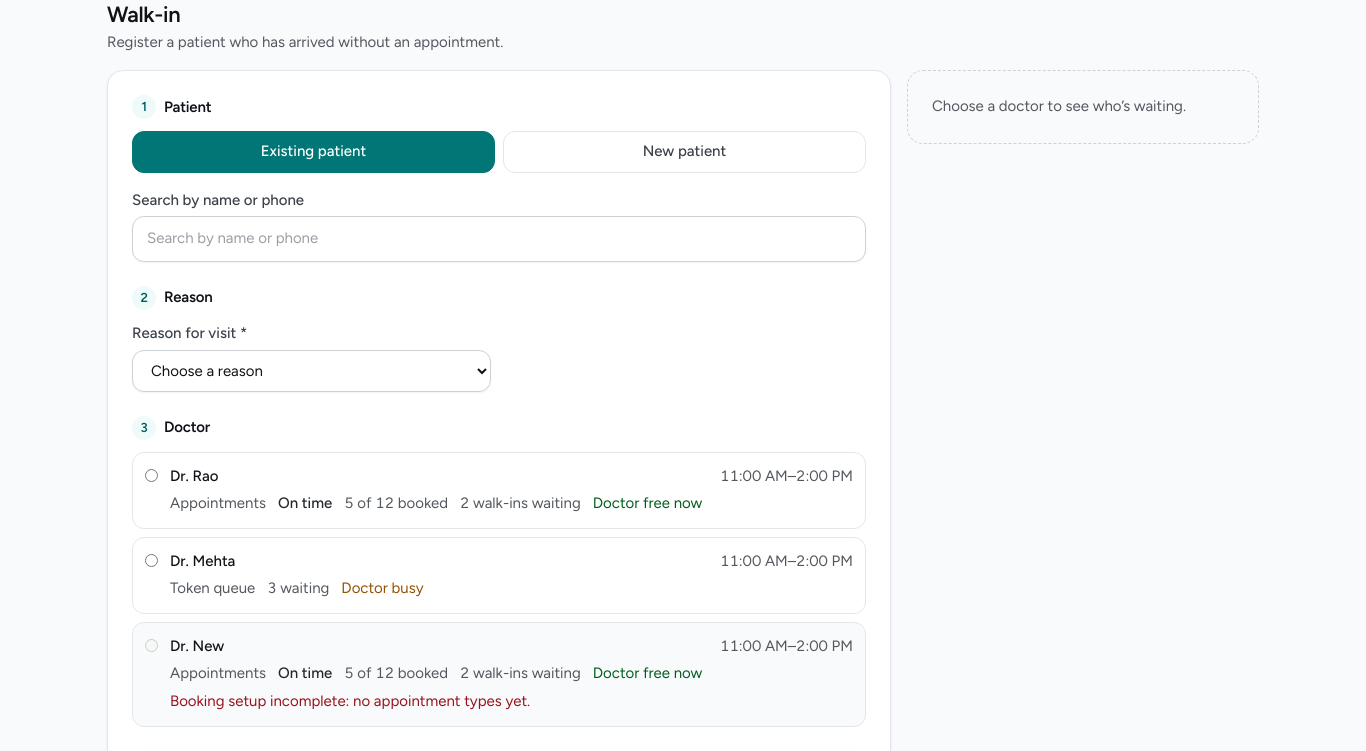
Test: FrontDeskWalkInPage (063-front-desk-walk-in US1) › requires text when the visit reason is Other
The width and height of the screenshot is (1366, 751).
Click the radio button labelled "New patient" at (684, 152), box [503,131,866,173]
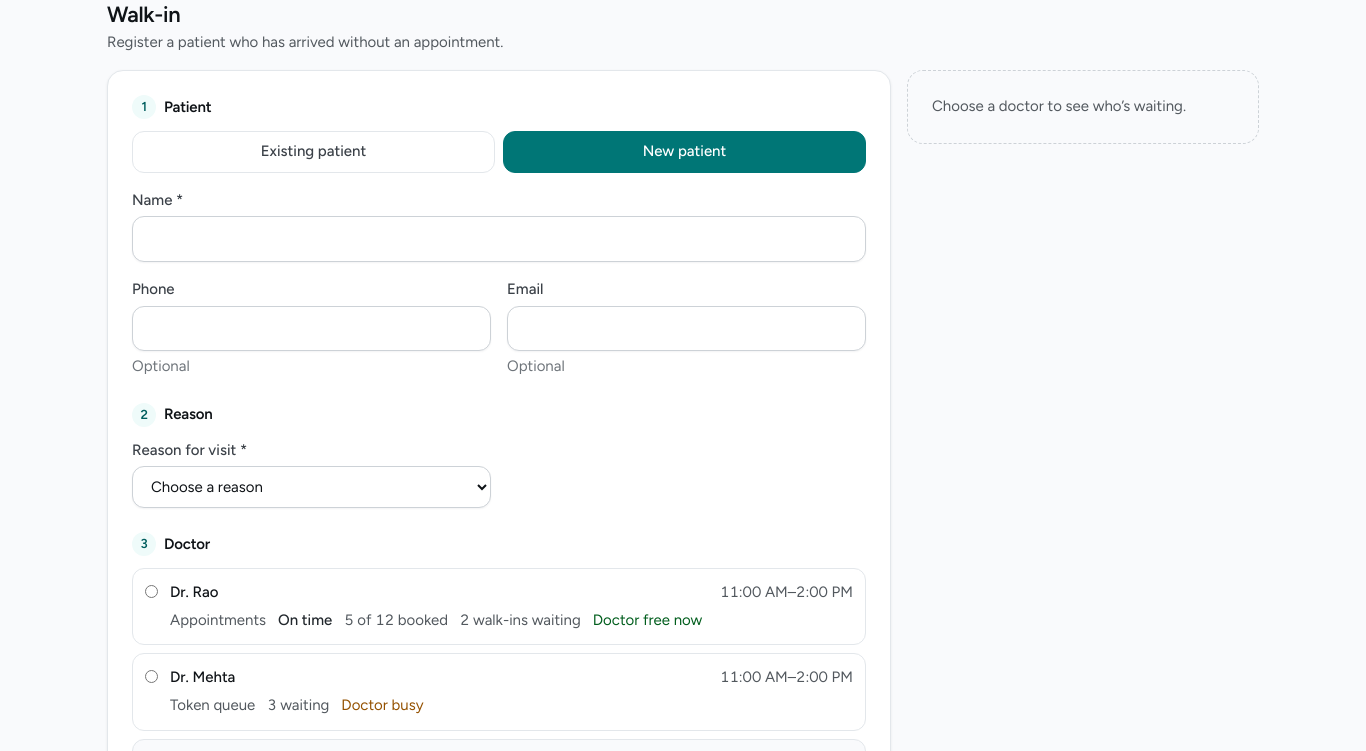
Type "Asha Rao" into the field labelled "Name *" at (499, 239), box [132,216,866,262]
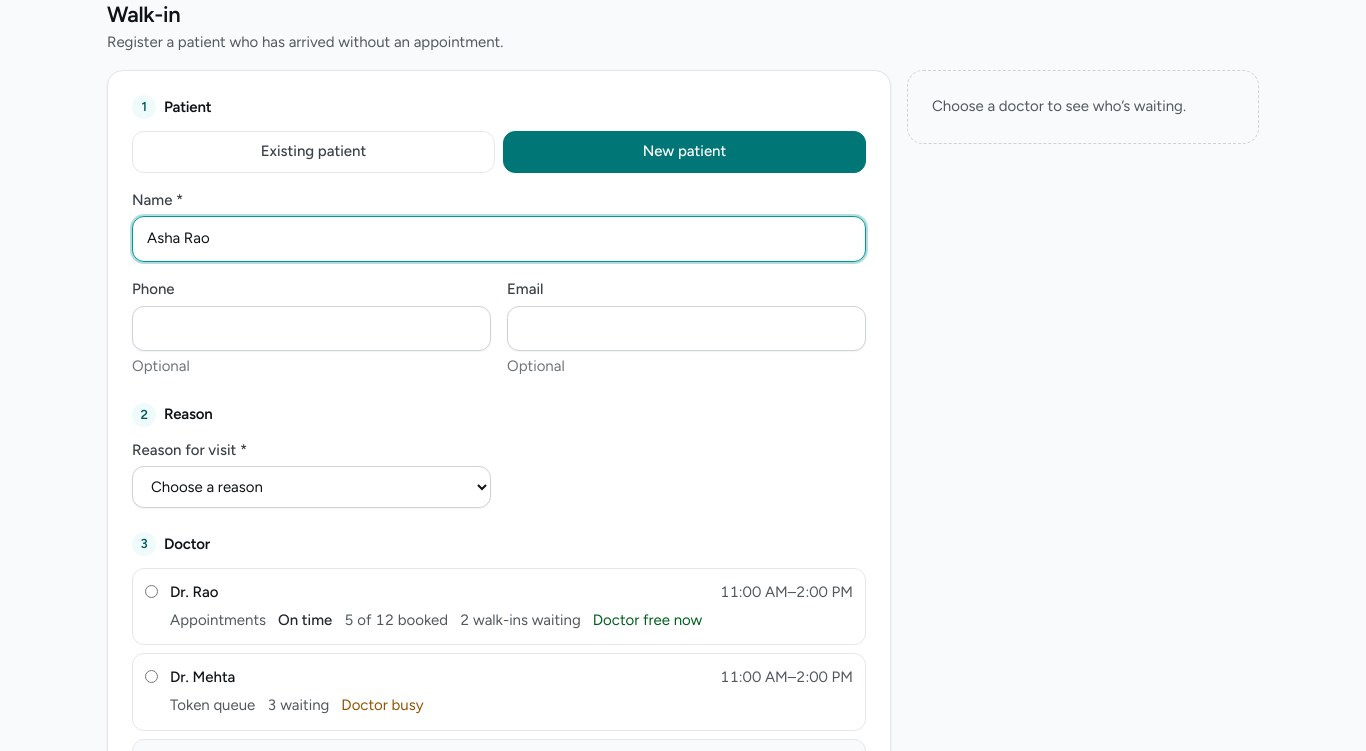
Select "Other" in the dropdown labelled "Reason for visit *" at (312, 487), box [132,466,491,508]
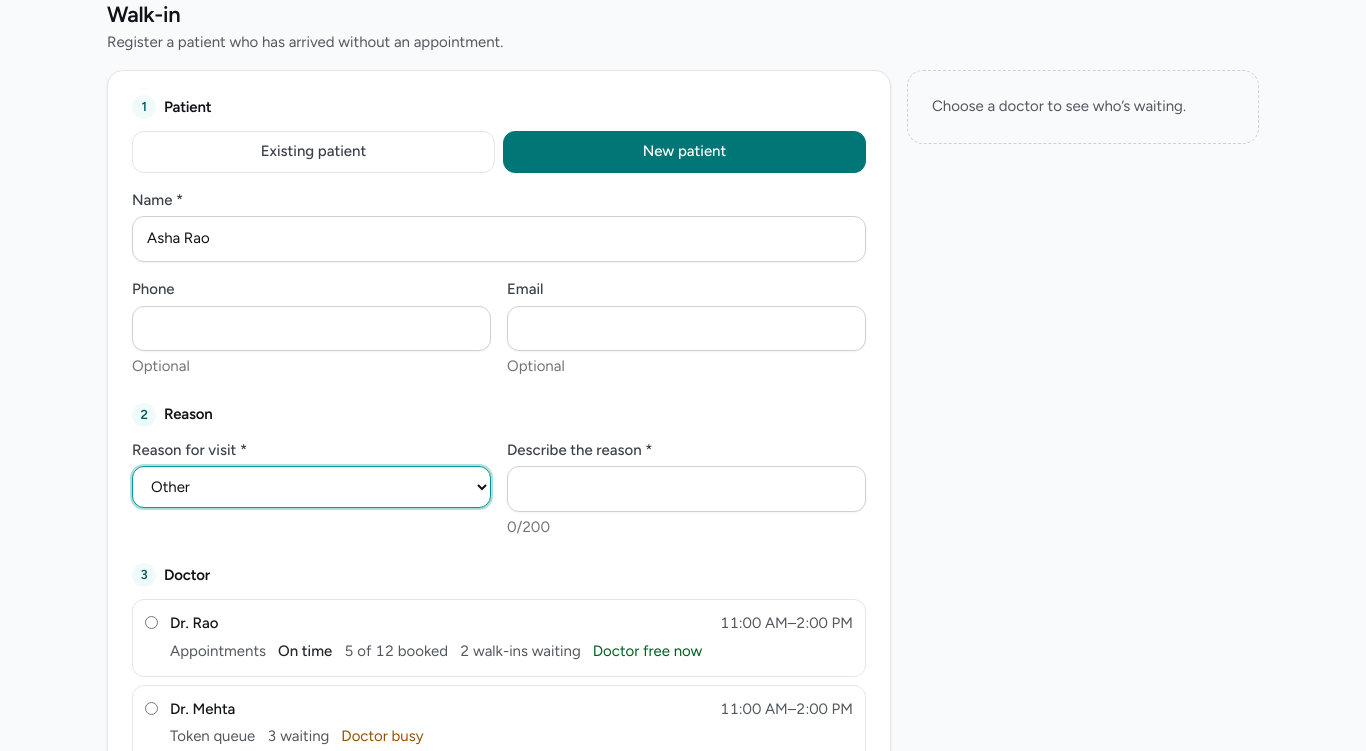
Click the radio button labelled "Dr. Rao" at (152, 623), box [145,616,158,629]
(page scrolled)
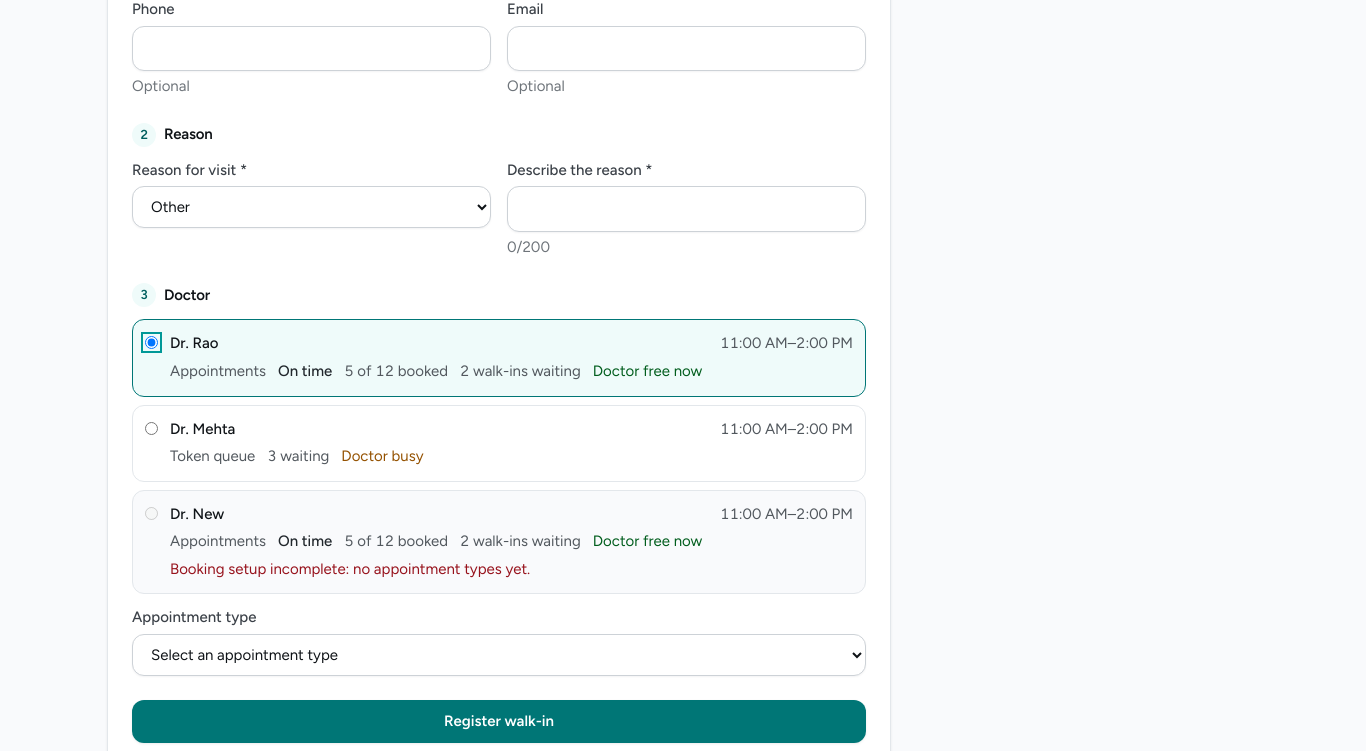
Select "Consultation" in the dropdown labelled "Appointment type" at (499, 655), box [132,634,866,676]
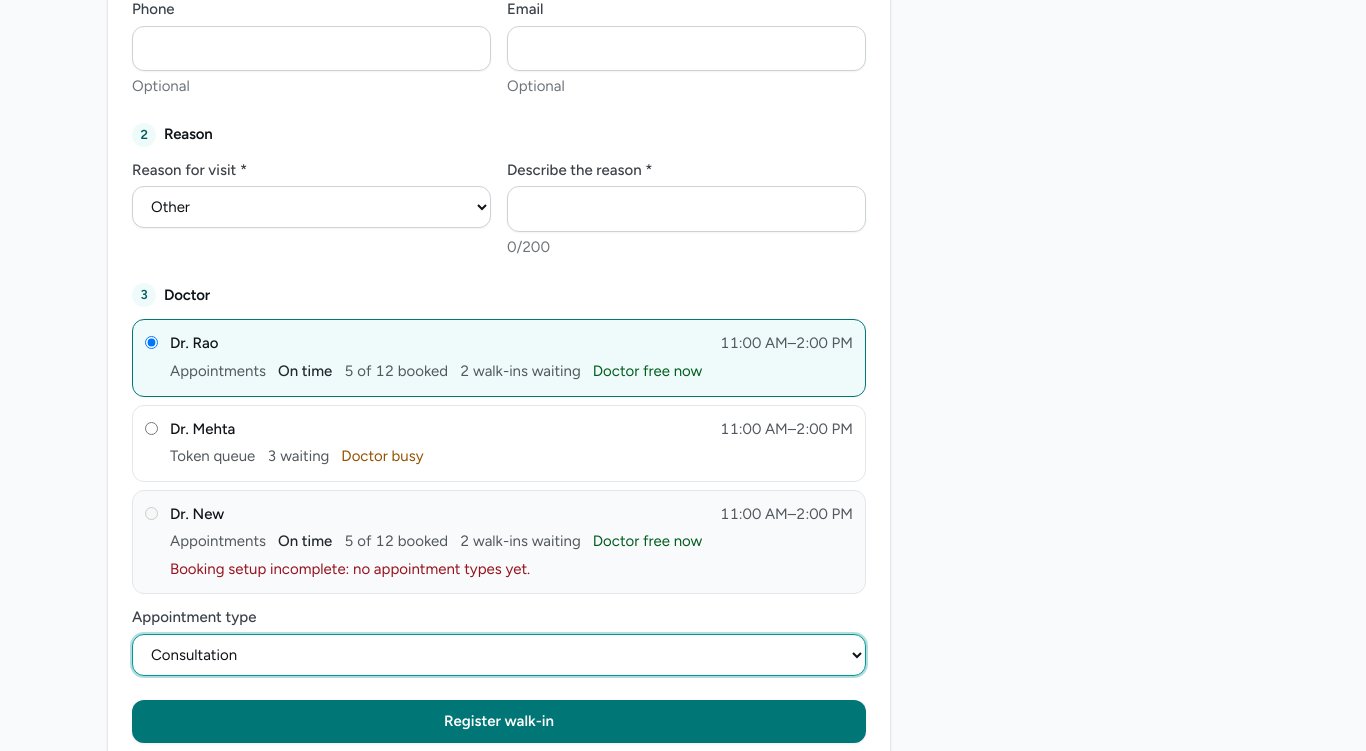
Click the button "Register walk-in" at (499, 722), box [132,700,866,744]
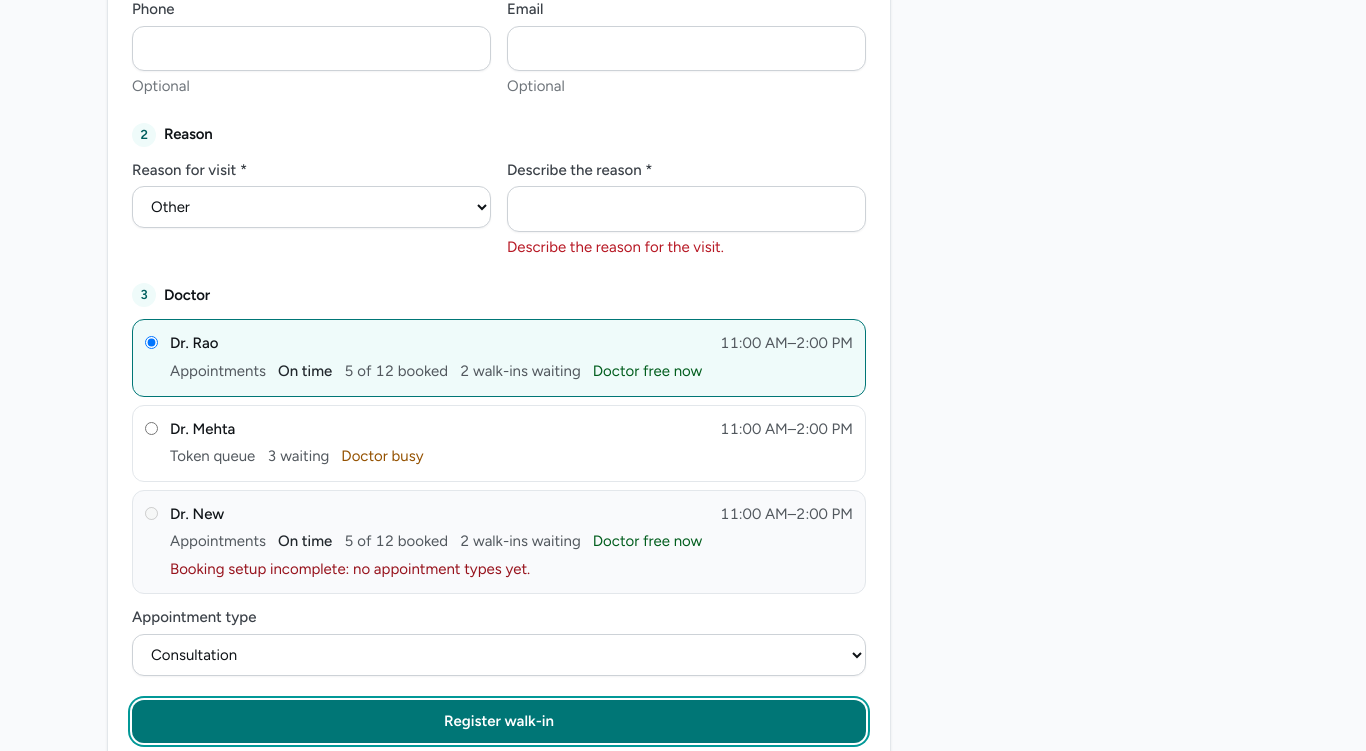
Expected: the text "Describe the reason for the visit." is shown, [507,238,724,256]
